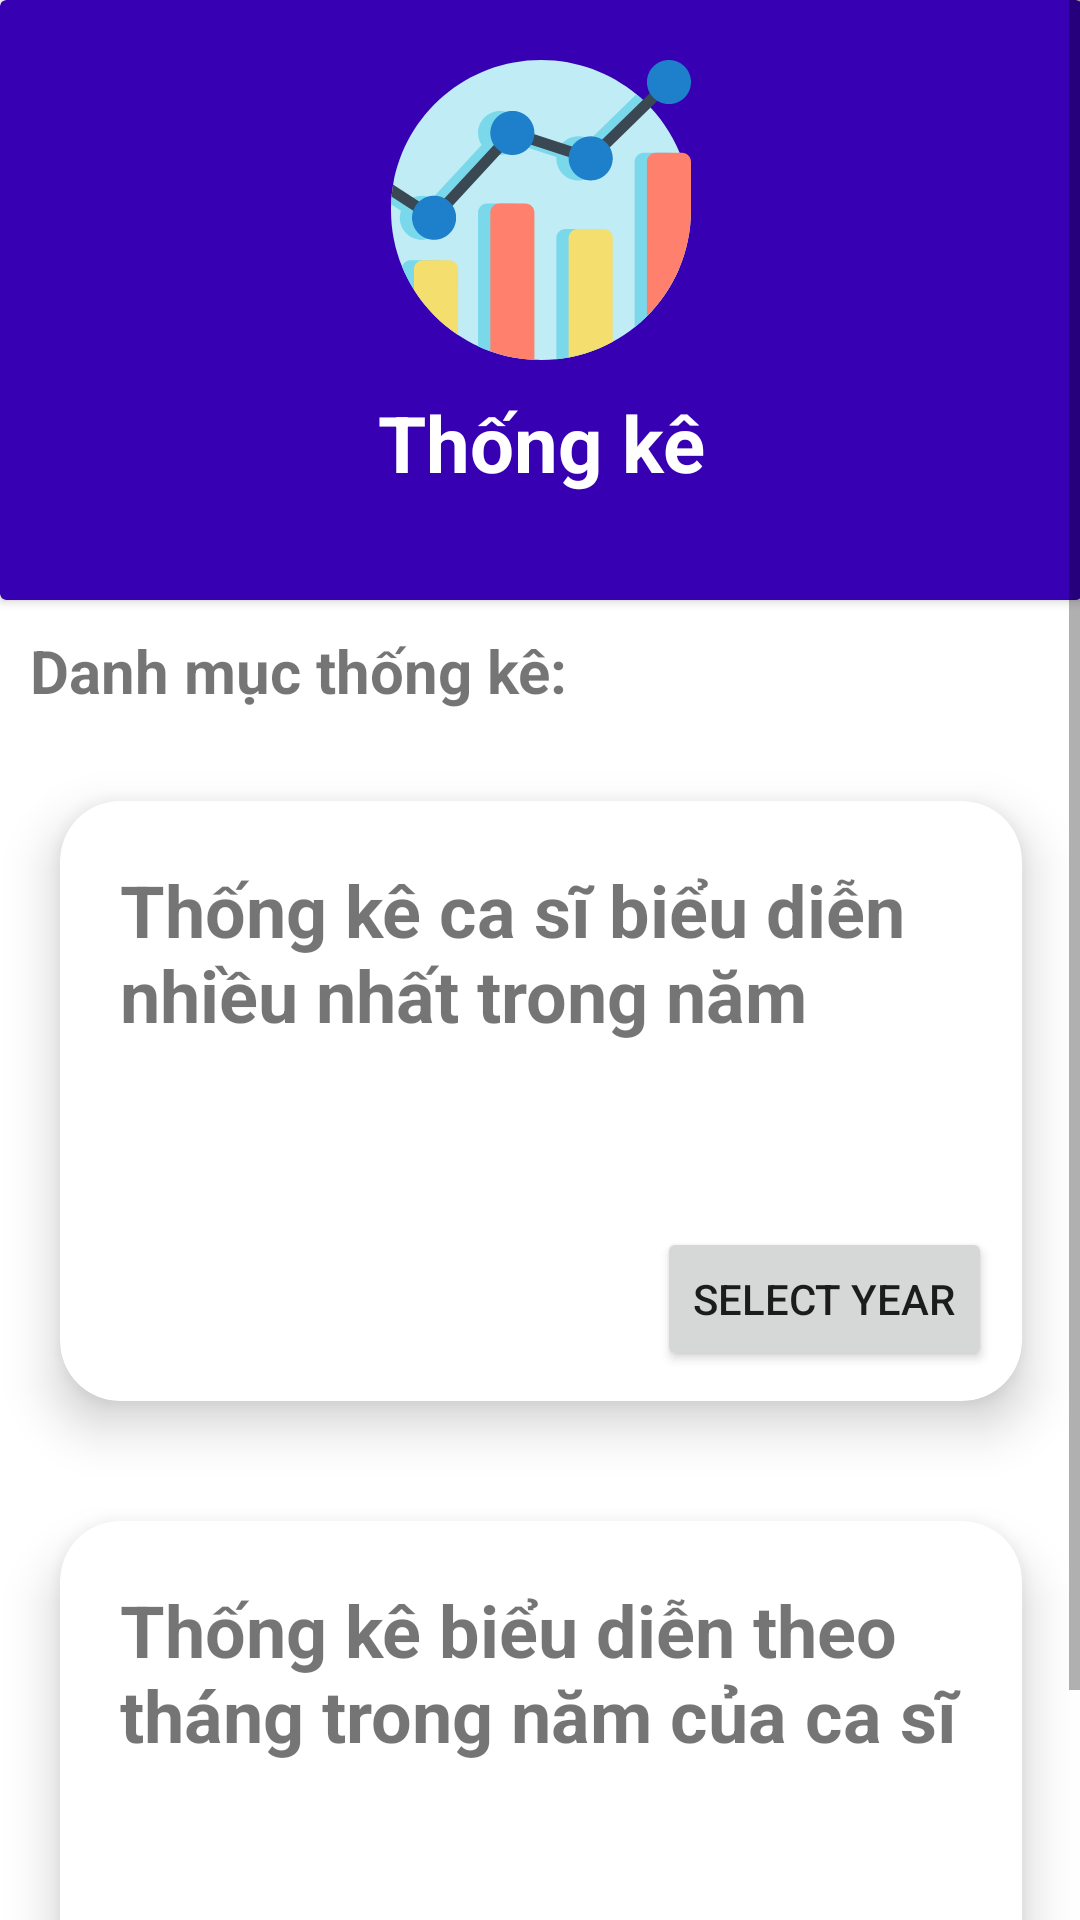

Icons on this 1080×1920 Android screen, each with its box as (x1, y1, x2, y2):
graph: (391, 60, 691, 360)
